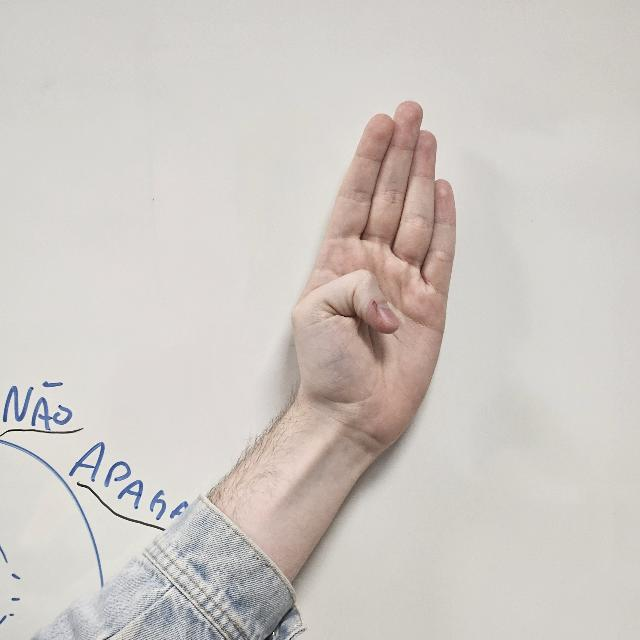Baixo: (292, 91, 458, 451)
